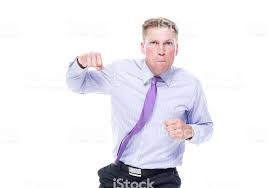white_male: (140, 22, 178, 69)
